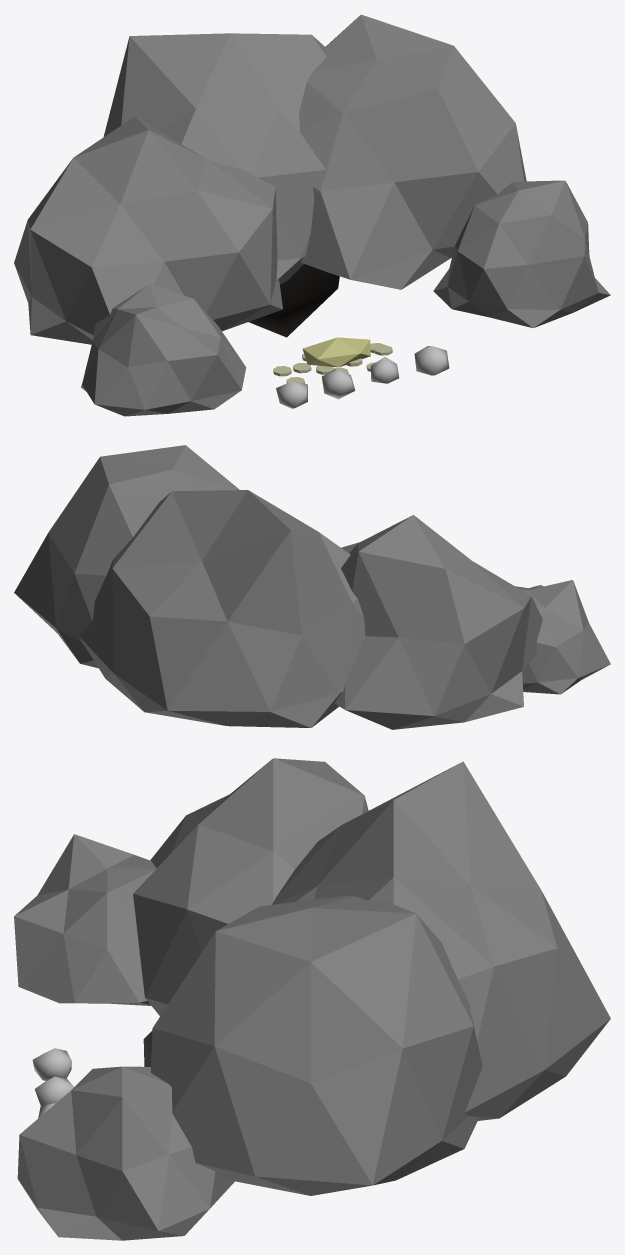
File: dragon_nest.glb
3 renders of one model, top to bottom at view 1: azimuth 30°, elevation 25°; view 2: azimuth 150°, elevation 25°; view 3: azimuth 270°, elevation 25°, orthographic. The views are drawn at different scales.
Visible parts, largest first — view 1: dragon_nest; view 2: dragon_nest; view 3: dragon_nest.
Boxes of the visible parts, x1=… form: dragon_nest: x1=14, y1=14, x2=610, y2=416; dragon_nest: x1=14, y1=445, x2=610, y2=729; dragon_nest: x1=14, y1=758, x2=610, y2=1240.
Bounding box in the file's own units: 10.2 × 4.86 × 7.92.
